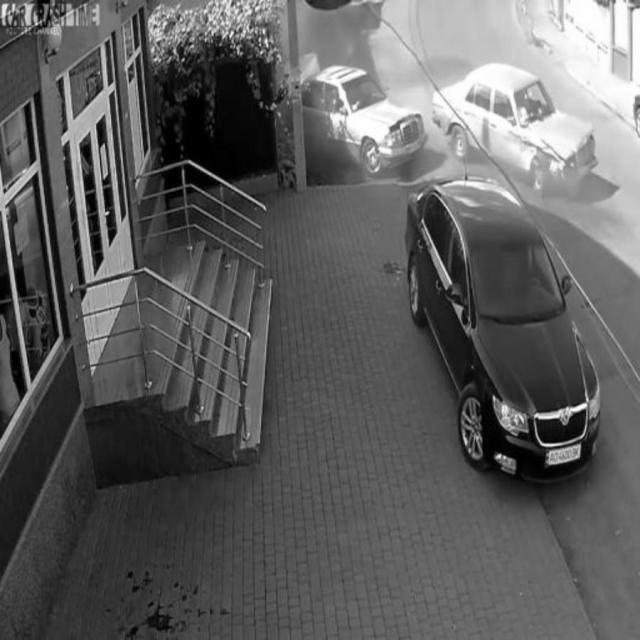vehicle: (408, 190, 582, 484), (439, 75, 595, 188), (305, 56, 427, 170)
